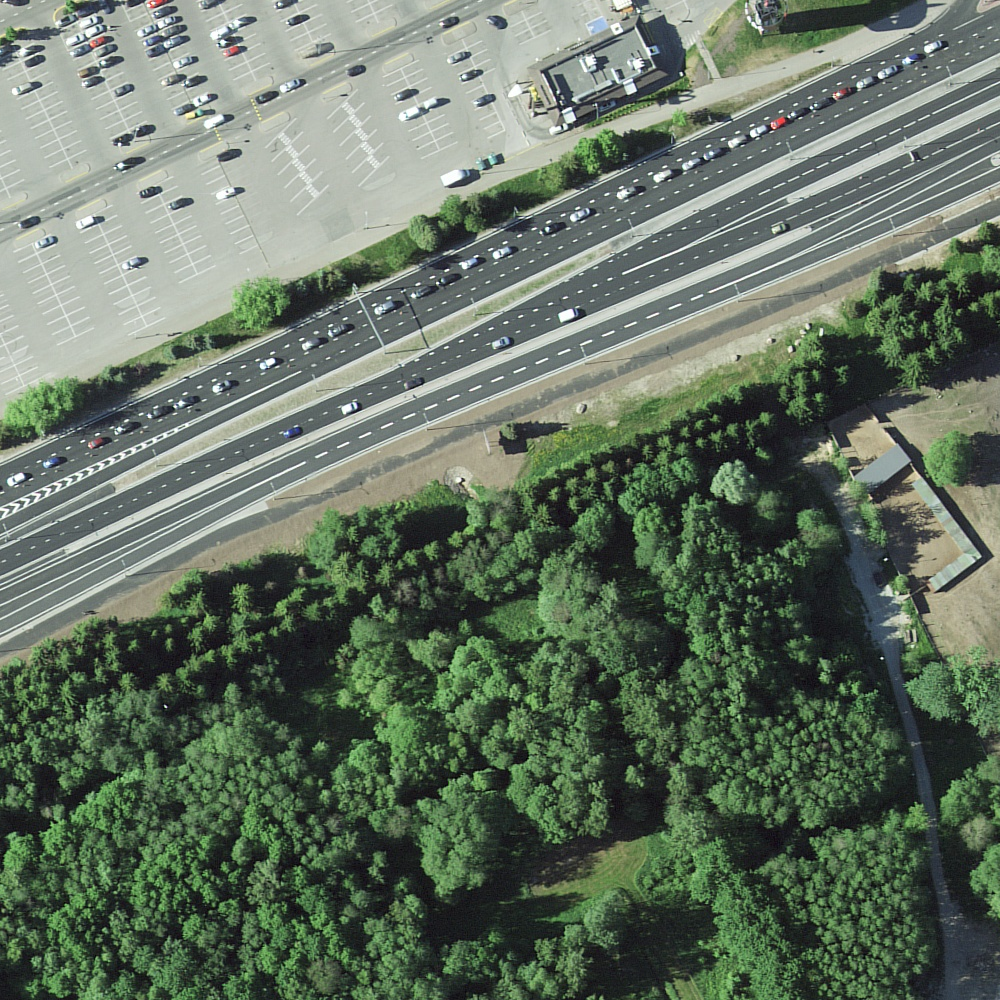building: (531, 17, 672, 123), (850, 441, 910, 498)
